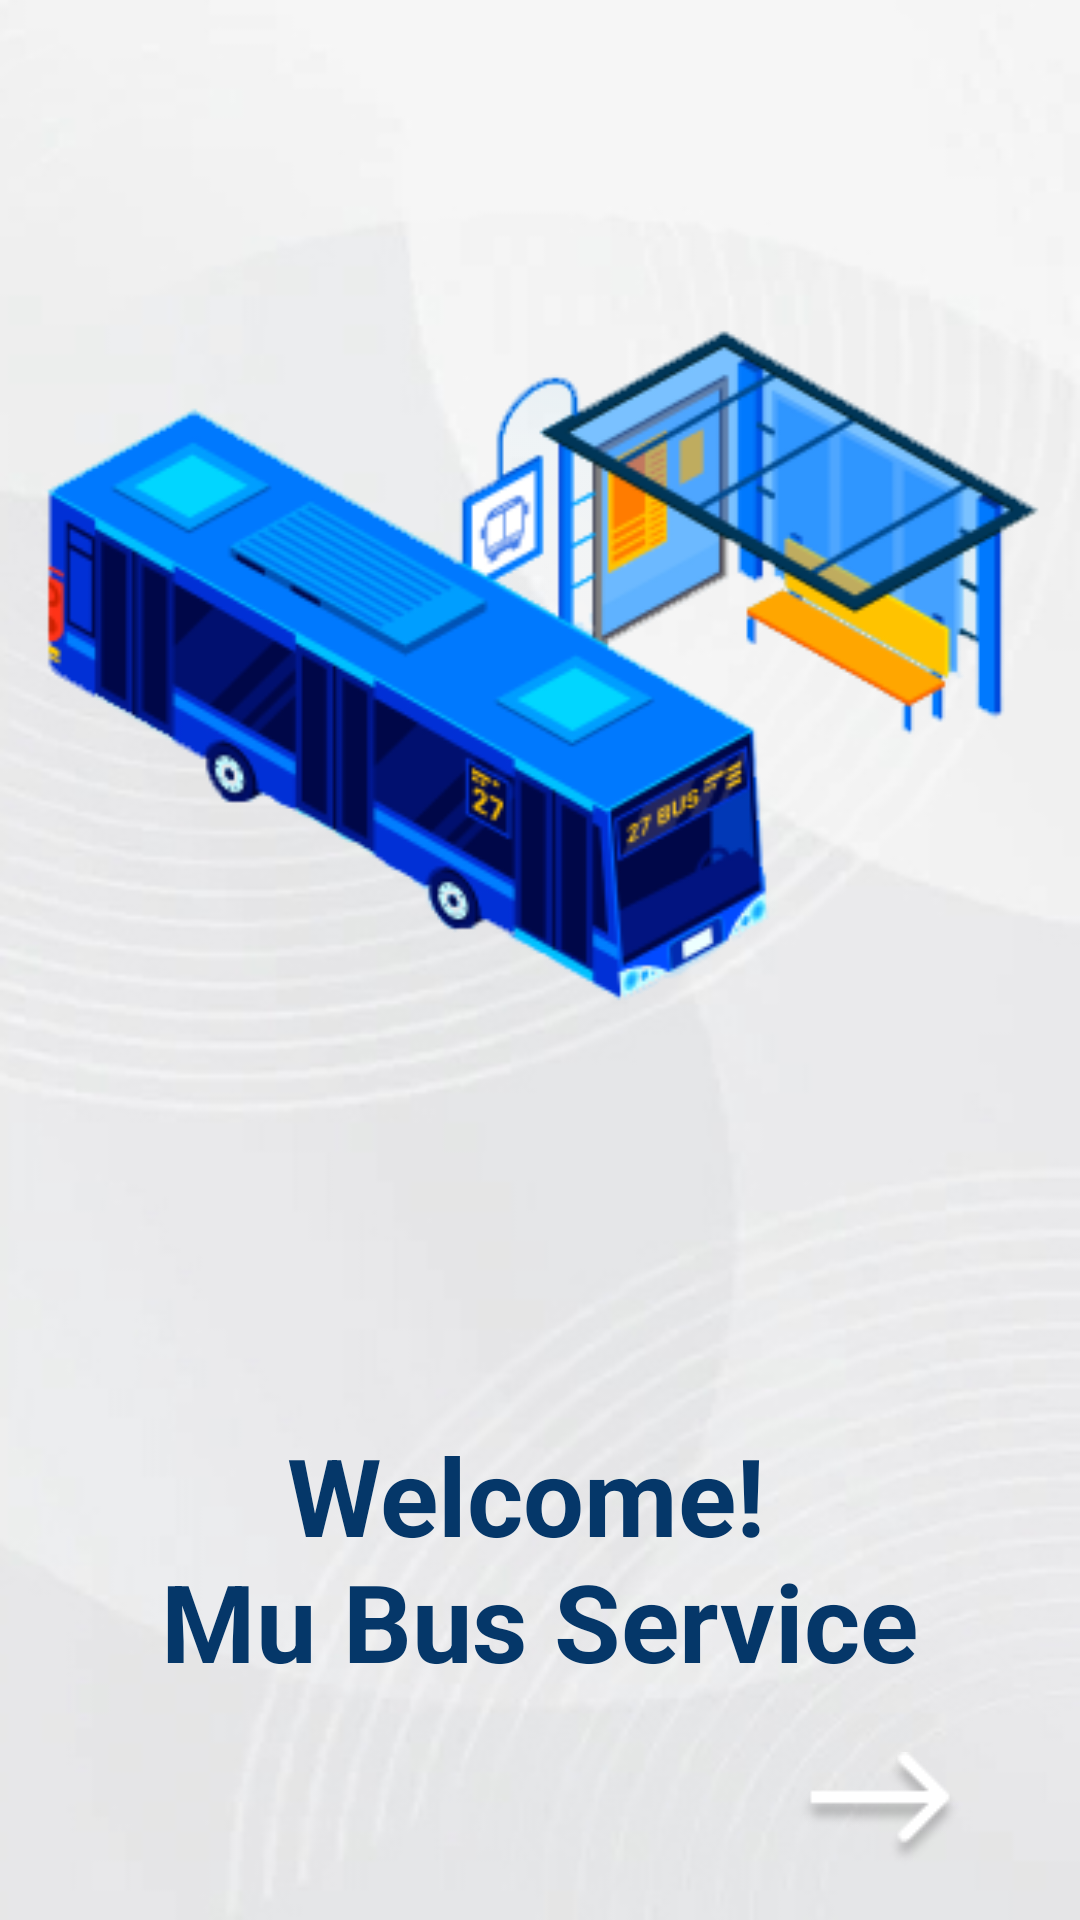

Named icons in this screenshot (1080 × 1920) and their centers, (x=x, y=y):
arrow: (x=880, y=1804)
